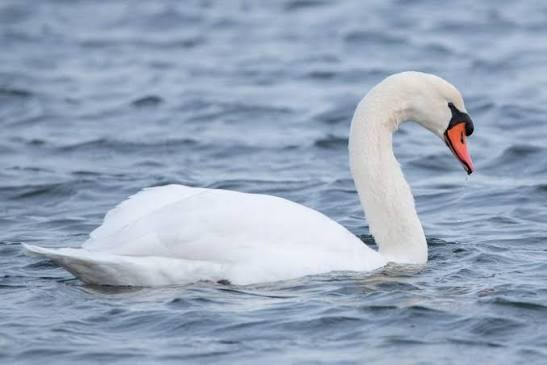swan: (24, 72, 475, 292)
